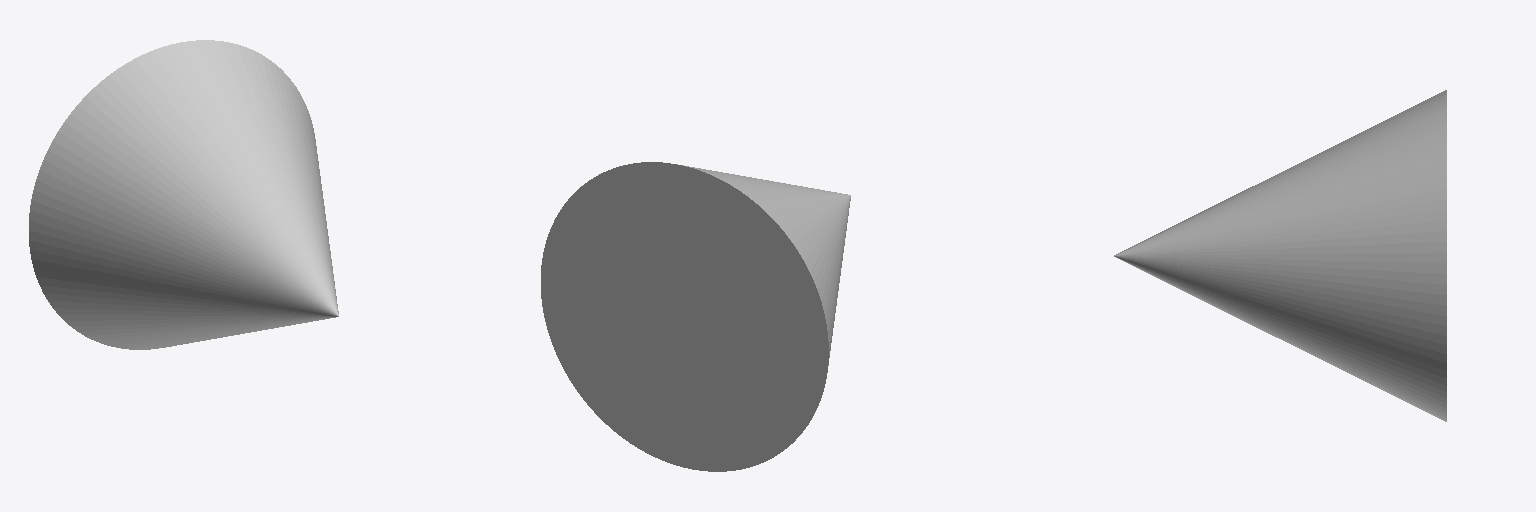
File: boid.obj
3 views of the same model, side by side, from view 1: azimuth 30°, elevation 25°; view 2: azimuth 150°, elevation 25°; view 3: azimuth 270°, elevation 25° (orthographic).
Visible parts, largest first — view 1: Object.1; view 2: Object.1; view 3: Object.1.
Part boxes in pixels (left/top/right/bottom): Object.1: left=29, top=40, right=338, bottom=349; Object.1: left=541, top=162, right=850, bottom=471; Object.1: left=1114, top=90, right=1446, bottom=421.
Size of the model in its own units: 40 by 40 by 40.